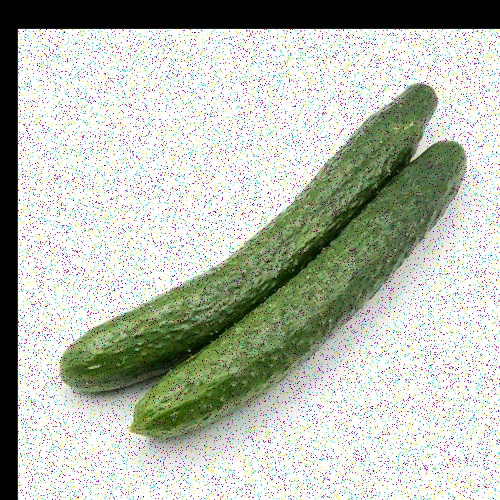cucumber: (65, 90, 439, 393), (135, 134, 461, 439)
